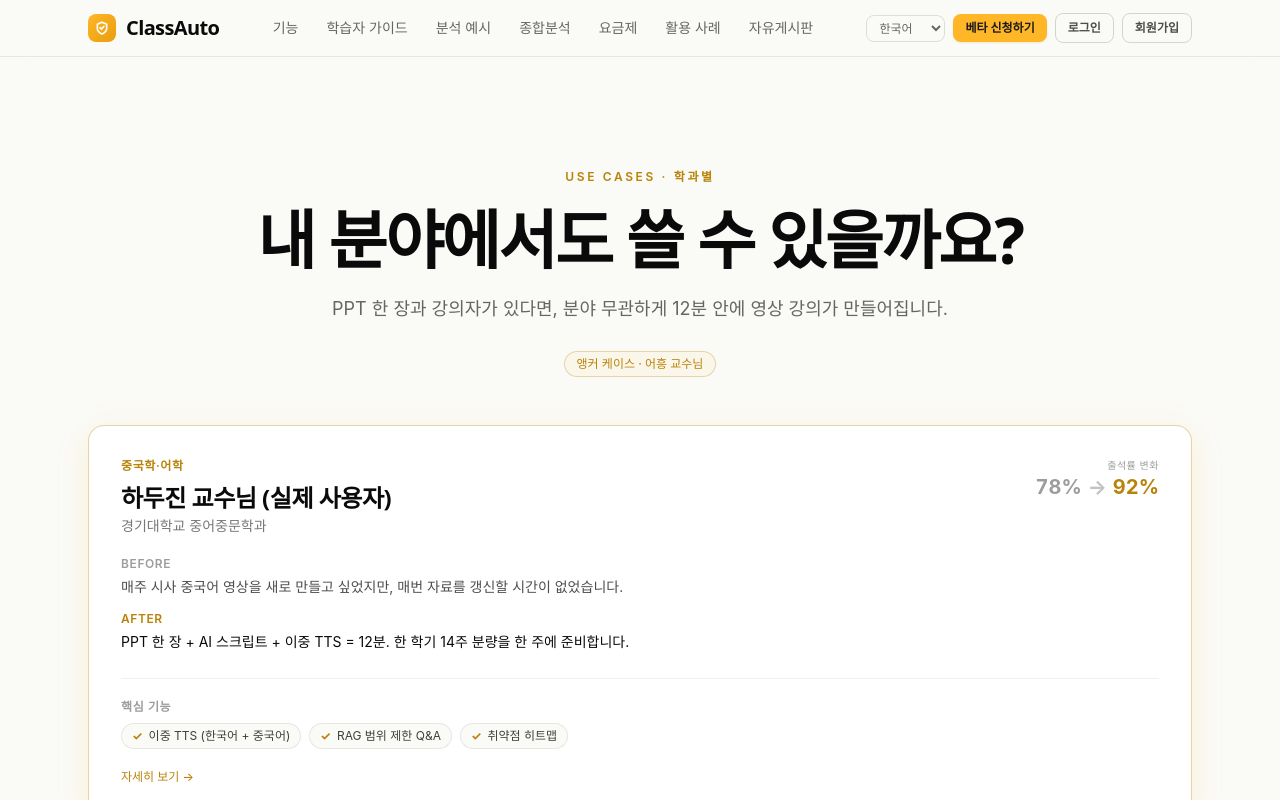
it: UseCasesContent › opens the detail modal when 'View detail' is clicked
# Multiple cards render the same "자세히 보기" — click the first one.
What coordinates should you click on to do the following:
click the button "자세히 보기 →"
I would click on:
 (158, 777)
Its box is [121, 769, 194, 785].
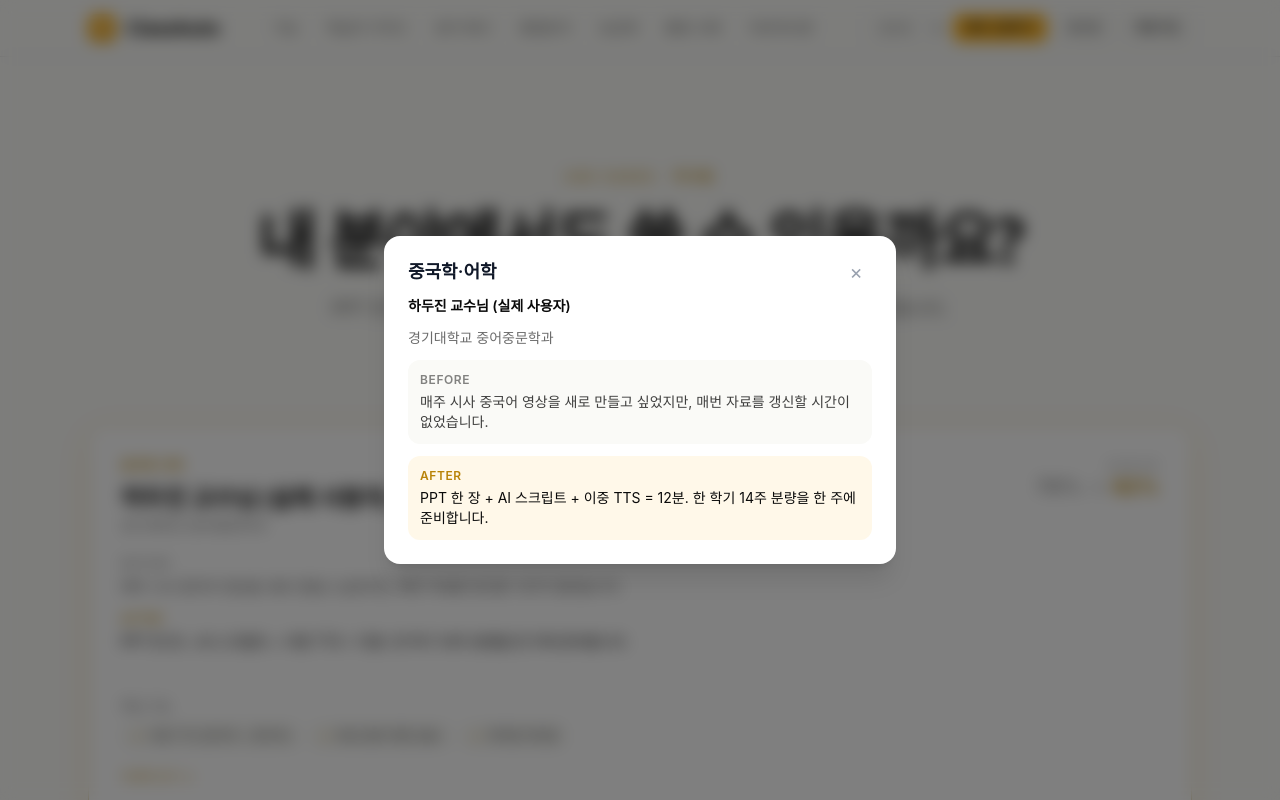
expect the dialog is shown: met
